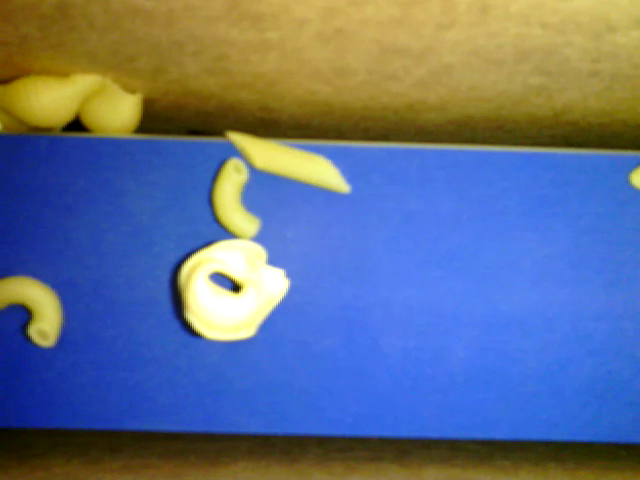elbow: (1, 273, 63, 347), (213, 156, 264, 241)
penne: (227, 127, 350, 196)
shell: (1, 73, 111, 123), (81, 73, 141, 136), (1, 111, 55, 134)
tortellini: (176, 238, 292, 343)
